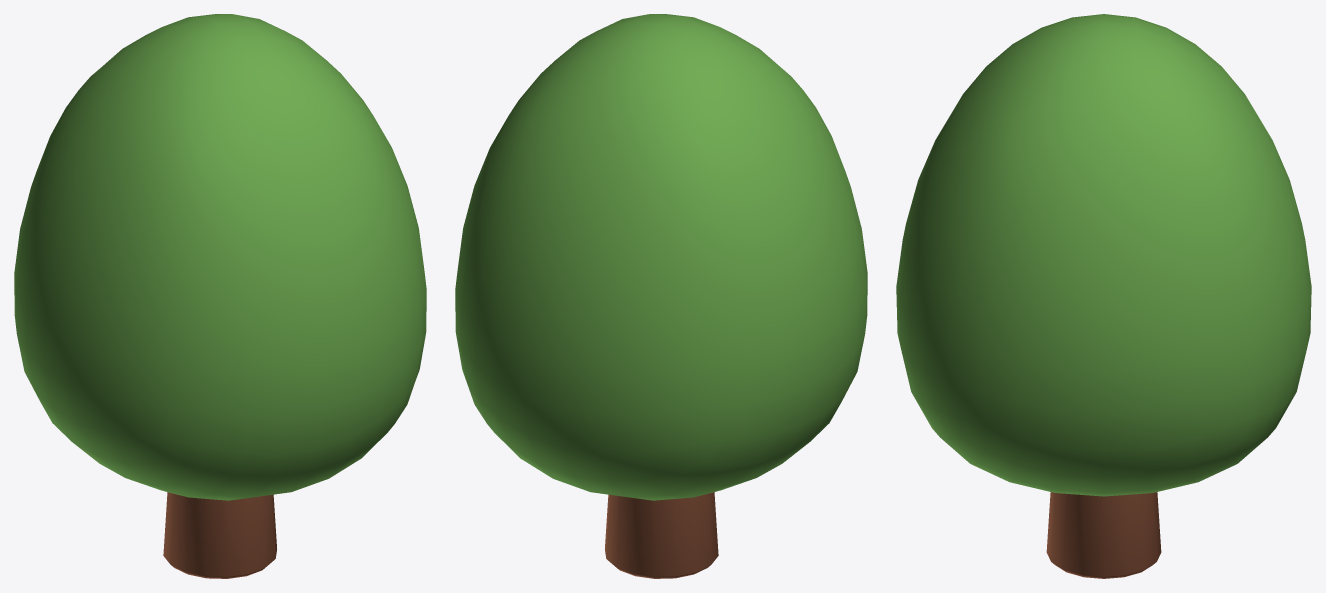
Rendered from tree5.fbx.
3 views of the same model, side by side, from view 1: azimuth 30°, elevation 25°; view 2: azimuth 150°, elevation 25°; view 3: azimuth 270°, elevation 25° (orthographic).
Visible parts, largest first — view 1: tree5; view 2: tree5; view 3: tree5.
Part boxes in pixels (x1,y1,x2,y2): tree5: (14,14,426,578); tree5: (455,14,867,578); tree5: (896,14,1311,578).
Size of the model in its own units: 393 by 565 by 400.
